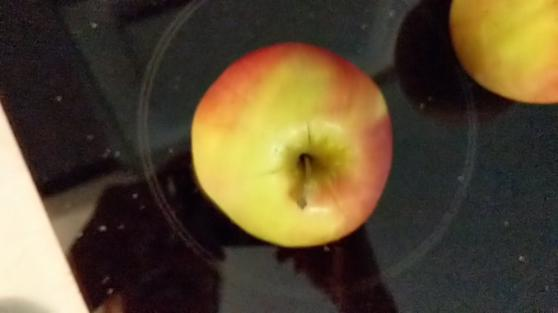apple: (184, 38, 405, 252), (443, 1, 557, 109)
